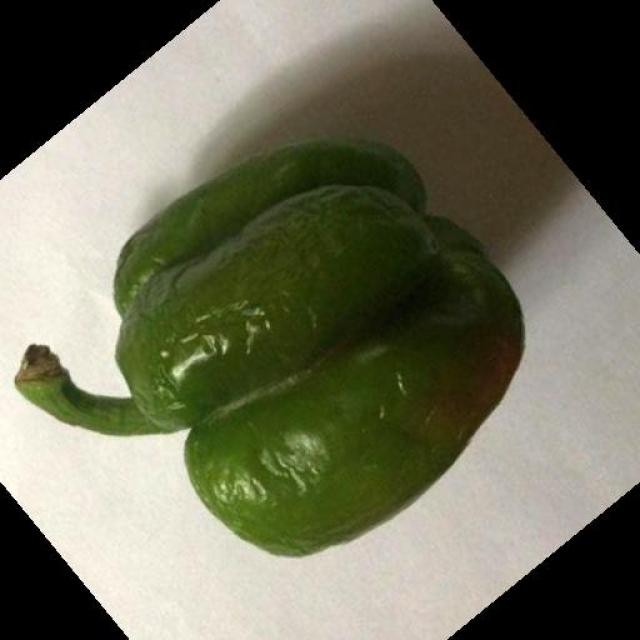Stale_Capsicum: (51, 140, 513, 534)
